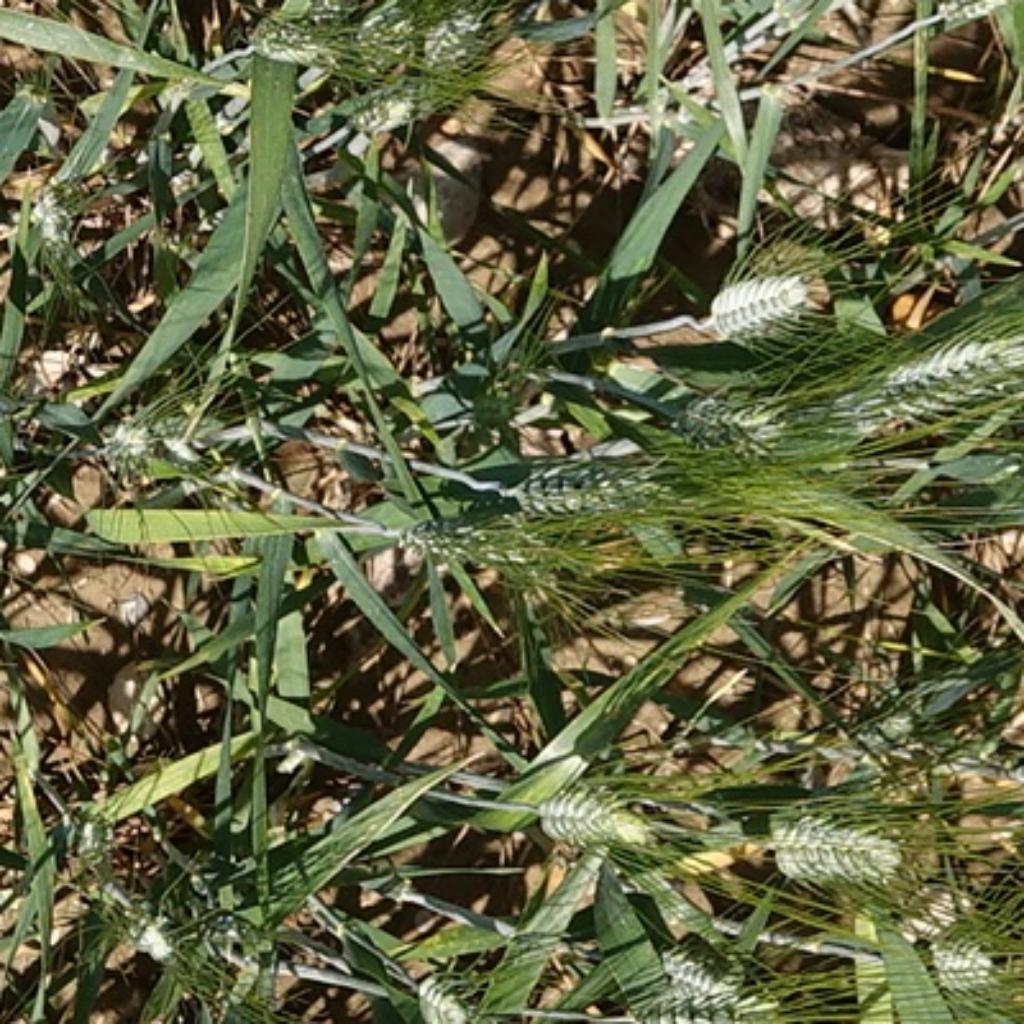0-0: (499, 440, 670, 529), (865, 317, 1013, 419), (87, 378, 230, 478), (762, 803, 906, 893), (529, 779, 662, 858), (660, 373, 791, 453), (704, 261, 827, 345), (5, 158, 99, 266), (916, 911, 1013, 995), (384, 517, 529, 573), (445, 343, 532, 435), (332, 81, 432, 151), (240, 0, 353, 61), (51, 783, 122, 878), (648, 939, 754, 1000), (102, 890, 192, 960), (422, 7, 504, 74), (402, 969, 498, 1024), (348, 5, 419, 76), (632, 998, 791, 1024), (929, 0, 1018, 25)
